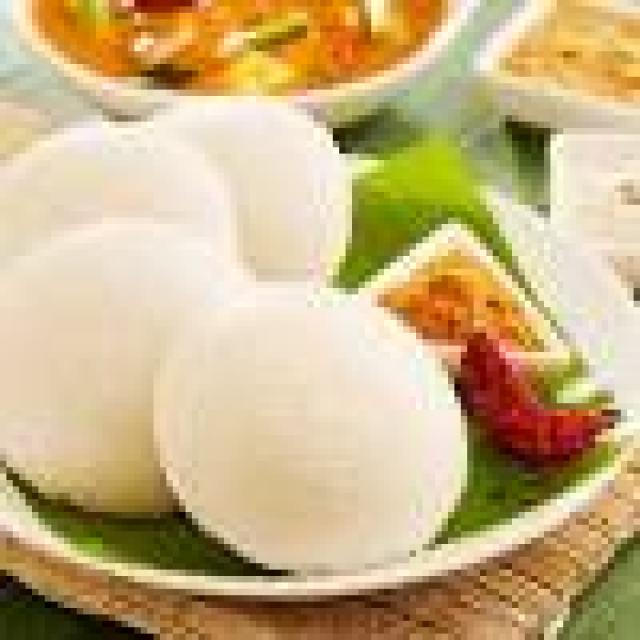Wet Waste: (154, 275, 460, 563), (0, 192, 282, 499), (134, 64, 372, 320), (0, 102, 243, 326)
